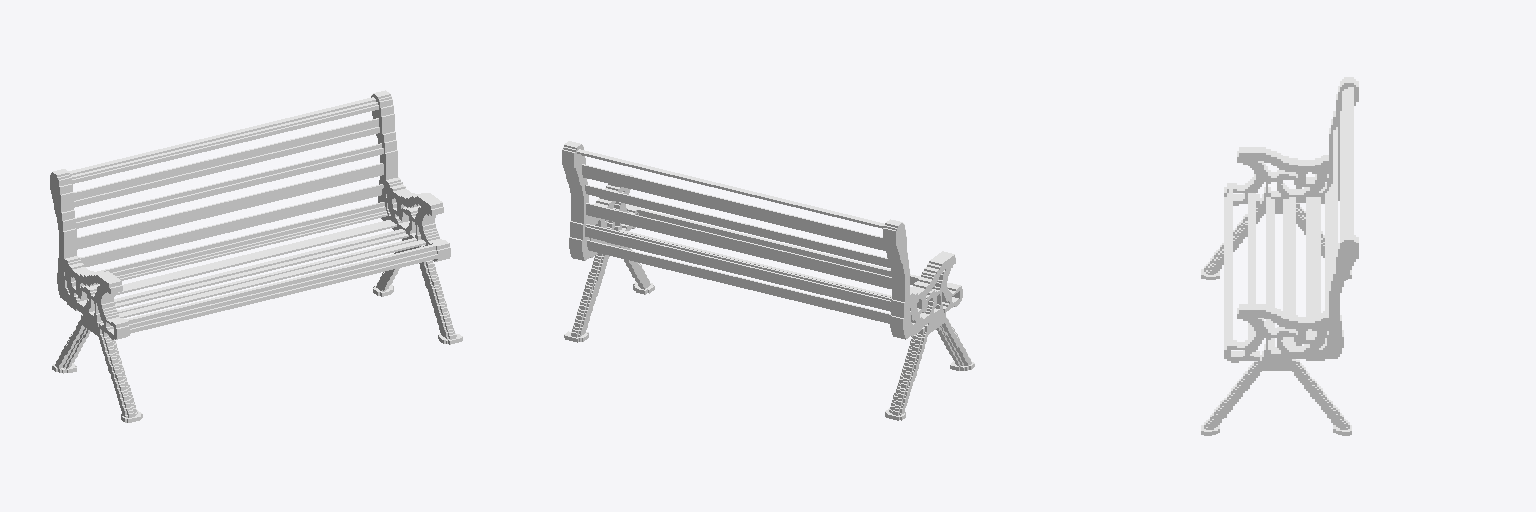
File: BancoDePraça.obj
The picture shows the model from 3 angles: view 1: azimuth 30°, elevation 25°; view 2: azimuth 150°, elevation 25°; view 3: azimuth 270°, elevation 25°; orthographic projection.
Parts seen in each view (by area): view 1: object 1; view 2: object 1; view 3: object 1.
Part boxes in pixels (left/top/right/bottom): object 1: left=50, top=90, right=462, bottom=422; object 1: left=562, top=141, right=974, bottom=420; object 1: left=1201, top=77, right=1358, bottom=435.
Bounding box in the file's own units: 18.6 × 10.3 × 7.5.